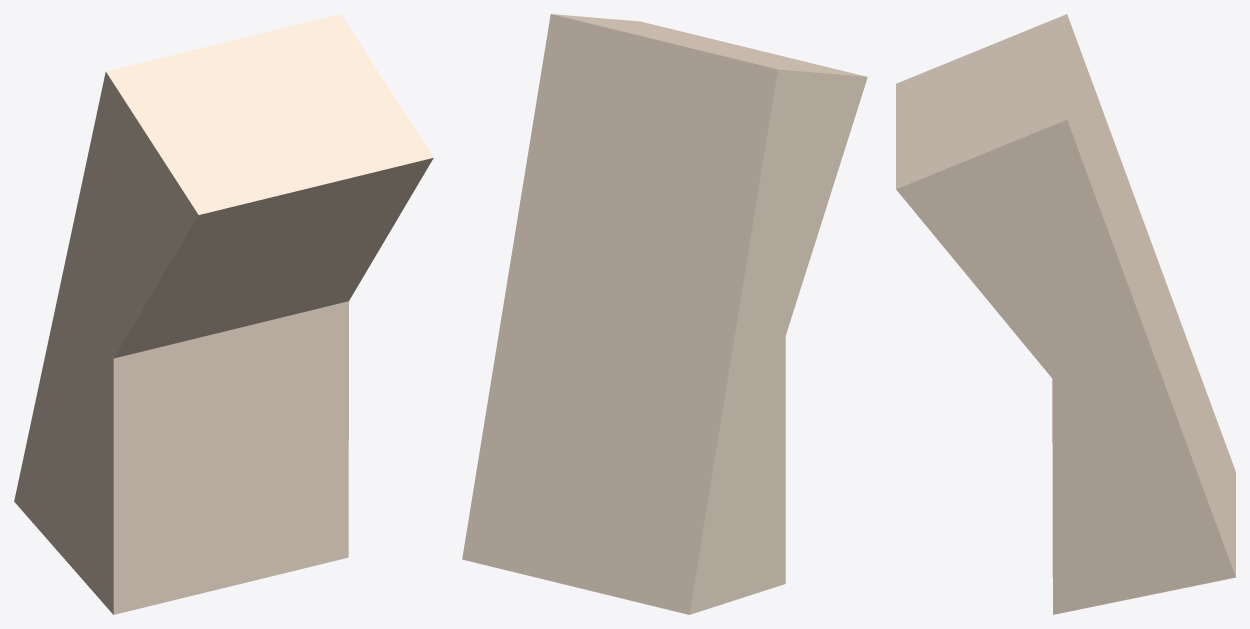
The model's file is Trieuse switch btnS_On_Off.glb.
3 renders of one model, left to right at view 1: azimuth 30°, elevation 25°; view 2: azimuth 150°, elevation 25°; view 3: azimuth 270°, elevation 25°, orthographic. The views are drawn at different scales.
Parts seen in each view (by area): view 1: Bouton 1; view 2: Bouton 1; view 3: Bouton 1.
Part boxes in pixels (x1,y1,x2,y2): Bouton 1: (14,14,433,614); Bouton 1: (462,14,867,614); Bouton 1: (896,14,1235,614).
Size of the model in its own units: 0.0253 by 0.0553 by 0.0344.
Materials: 1 (1 with a texture image).
